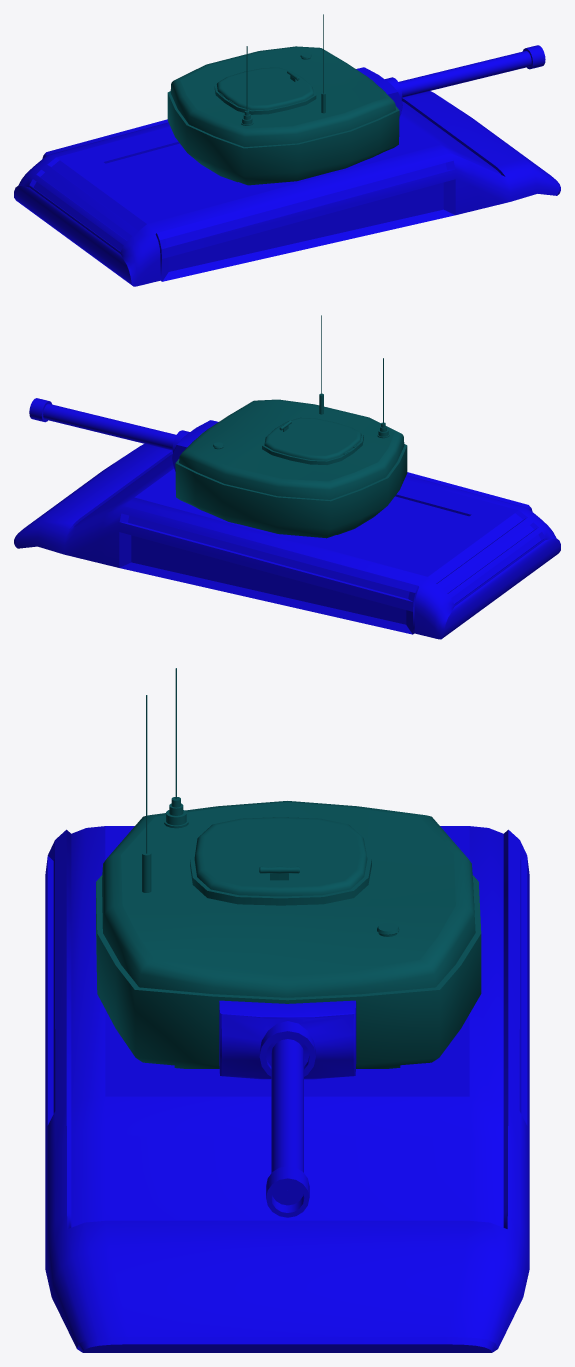
File: Weapon_Cannon .FBX
3 renders of one model, top to bottom at view 1: azimuth 30°, elevation 25°; view 2: azimuth 150°, elevation 25°; view 3: azimuth 270°, elevation 25°, orthographic. The views are drawn at different scales.
Parts seen in each view (by area): view 1: Tank Body, Tank Head, Tank Lid Hendel, Tank Barrel, Tank Barrel Holder, Tank Deksel 2; view 2: Tank Body, Tank Head, Tank Lid Hendel, Tank Barrel, Tank Barrel Holder, Tank Deksel 2; view 3: Tank Body, Tank Head, Tank Lid Hendel, Tank Barrel Holder, Tank Barrel, Tank Deksel 2.
Part boxes in pixels (x1,y1,x2,y2): Tank Body: (14,91,560,286); Tank Head: (167,46,399,185); Tank Lid Hendel: (216,67,313,110); Tank Barrel: (398,45,545,97); Tank Barrel Holder: (356,67,402,118); Tank Deksel 2: (214,79,316,114); Tank Body: (14,444,560,639); Tank Head: (175,399,407,538); Tank Lid Hendel: (264,417,361,460); Tank Barrel: (29,398,176,450); Tank Barrel Holder: (172,420,218,471); Tank Deksel 2: (262,430,363,464); Tank Body: (45,826,529,1352); Tank Head: (96,801,481,1068); Tank Lid Hendel: (194,817,367,896); Tank Barrel Holder: (219,1000,356,1079); Tank Barrel: (266,1039,309,1217); Tank Deksel 2: (190,826,371,905).
Bounding box in the file's own units: 803 × 363 × 360.
